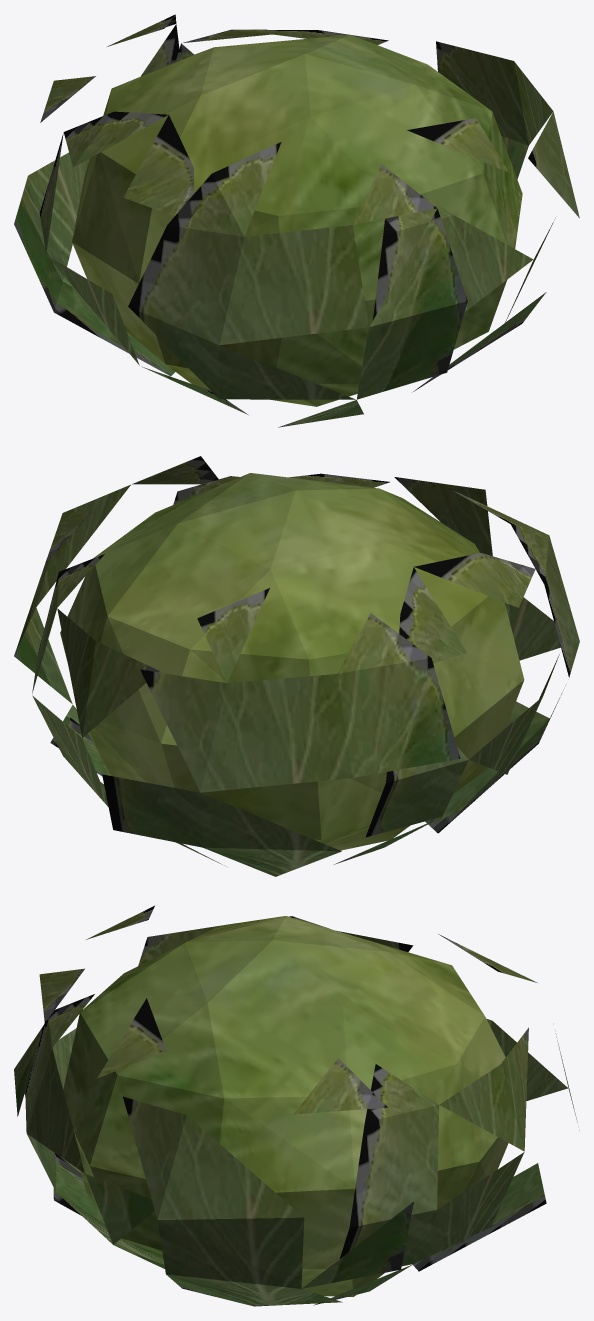
Rendered from KAPUSTA.glb.
3 renders of one model, top to bottom at view 1: azimuth 30°, elevation 25°; view 2: azimuth 150°, elevation 25°; view 3: azimuth 270°, elevation 25°, orthographic. The views are drawn at different scales.
Parts seen in each view (by area): view 1: KAPUSTA; view 2: KAPUSTA; view 3: KAPUSTA.
Part boxes in pixels (left/top/right/bottom): KAPUSTA: left=14, top=14, right=579, bottom=427; KAPUSTA: left=14, top=456, right=579, bottom=876; KAPUSTA: left=14, top=905, right=577, bottom=1306.
Bounding box in the file's own units: 0.483 × 0.3225 × 0.5106.
Materials: 1 (1 with a texture image).
